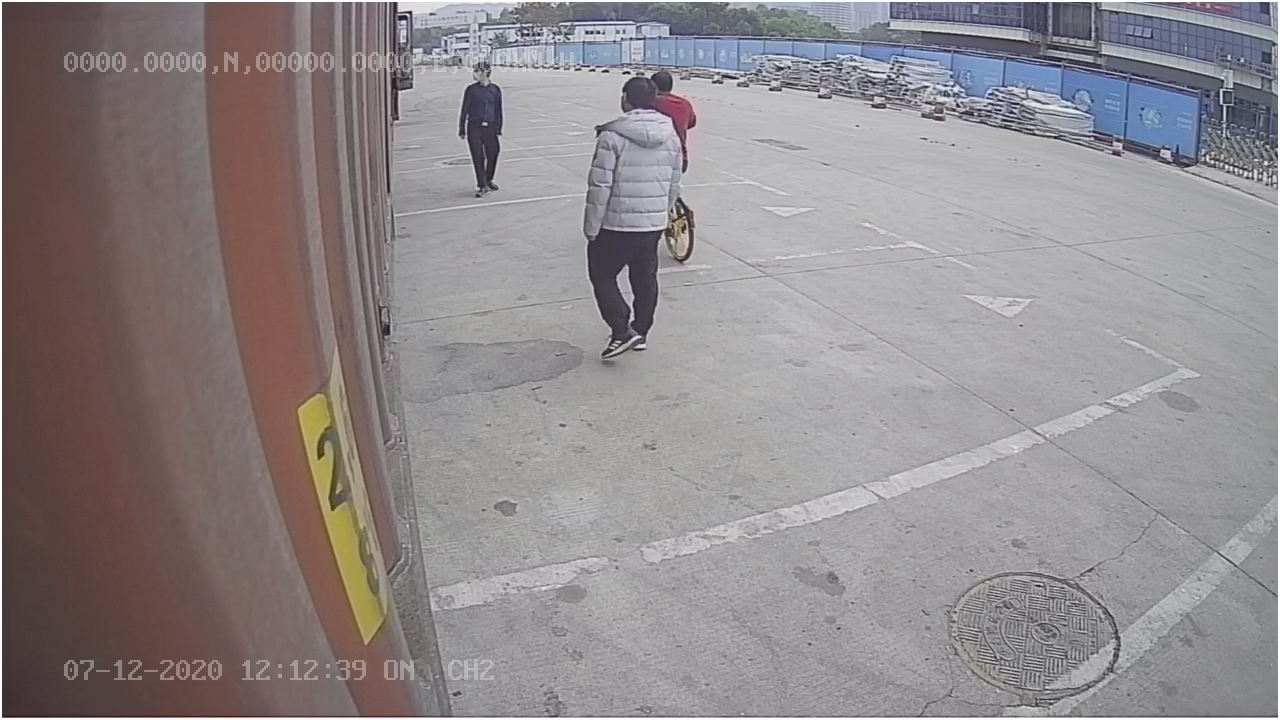person: (577, 73, 686, 358)
